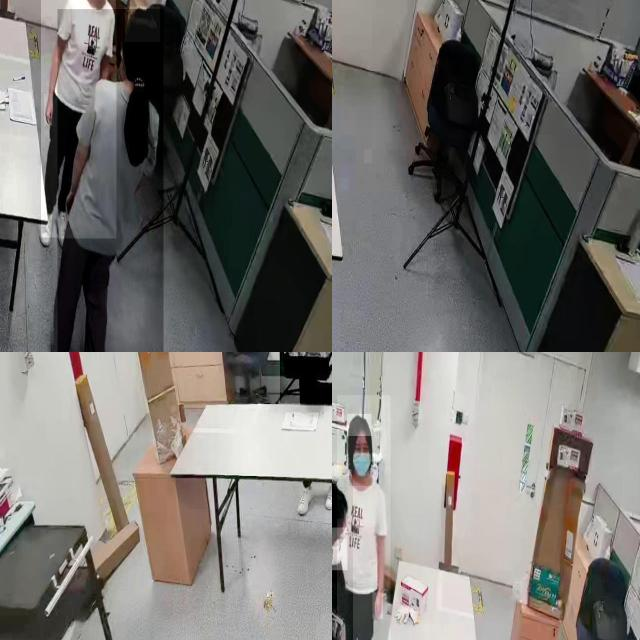face_mask: (349, 436, 373, 486), (332, 527, 347, 570)
hand_glove: (325, 352, 332, 375)
hand_noglove: (63, 186, 78, 215), (44, 94, 54, 126), (372, 592, 383, 620)
head_nohelmet: (125, 6, 161, 43), (332, 478, 348, 519), (347, 414, 372, 437)
person: (57, 9, 164, 352), (41, 0, 116, 238), (337, 395, 391, 640), (280, 352, 332, 403)
shoes: (55, 203, 73, 254), (294, 477, 314, 520), (324, 477, 332, 513)
